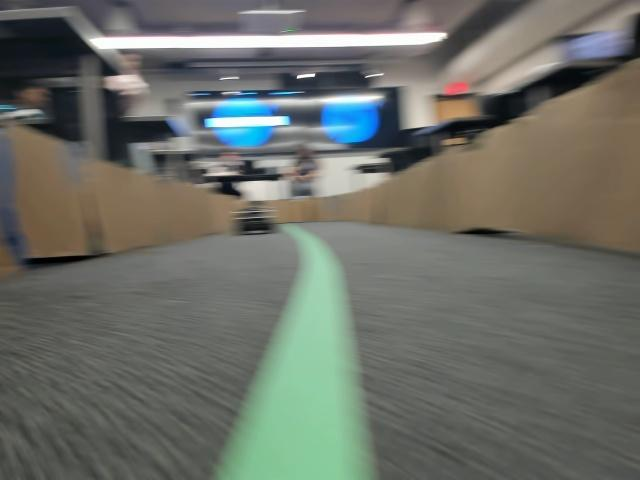Car: (231, 200, 275, 231)
